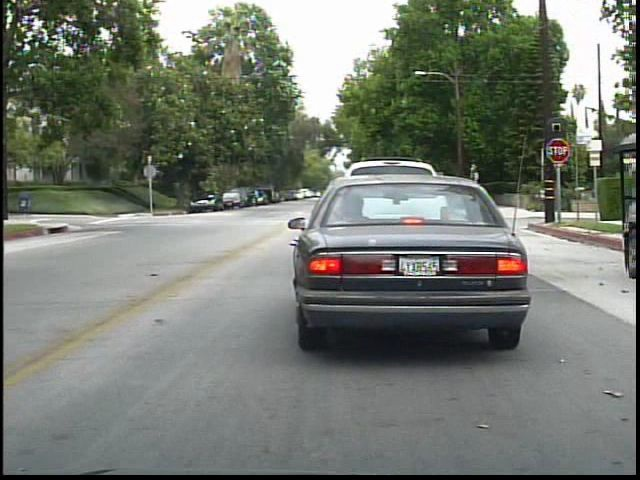person: (251, 184, 263, 209)
